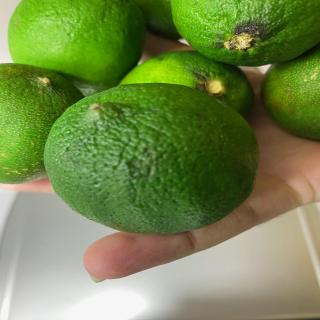Chilli: (43, 82, 260, 234)
Lemon: (7, 0, 146, 93), (0, 62, 85, 184), (170, 0, 320, 67), (118, 50, 255, 120), (260, 44, 319, 140)
